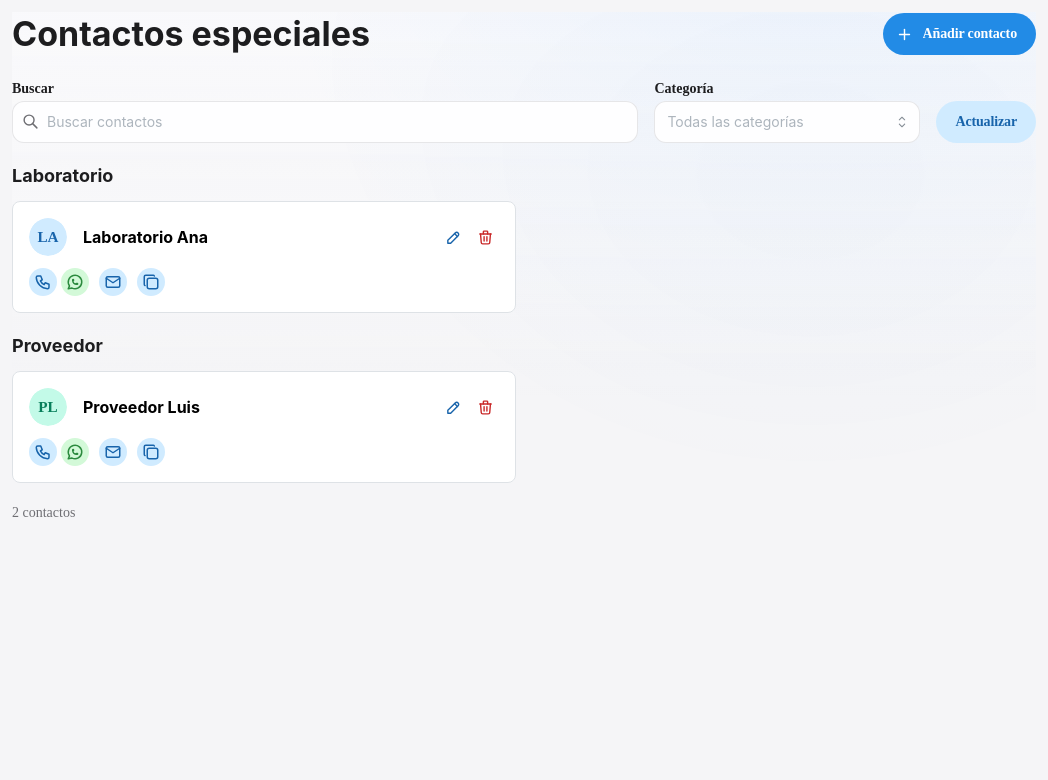
clipboard failure is shown without losing contact cards
Click the button named "Copiar Laboratorio Ana" at (151, 282), box [137,268,165,296]
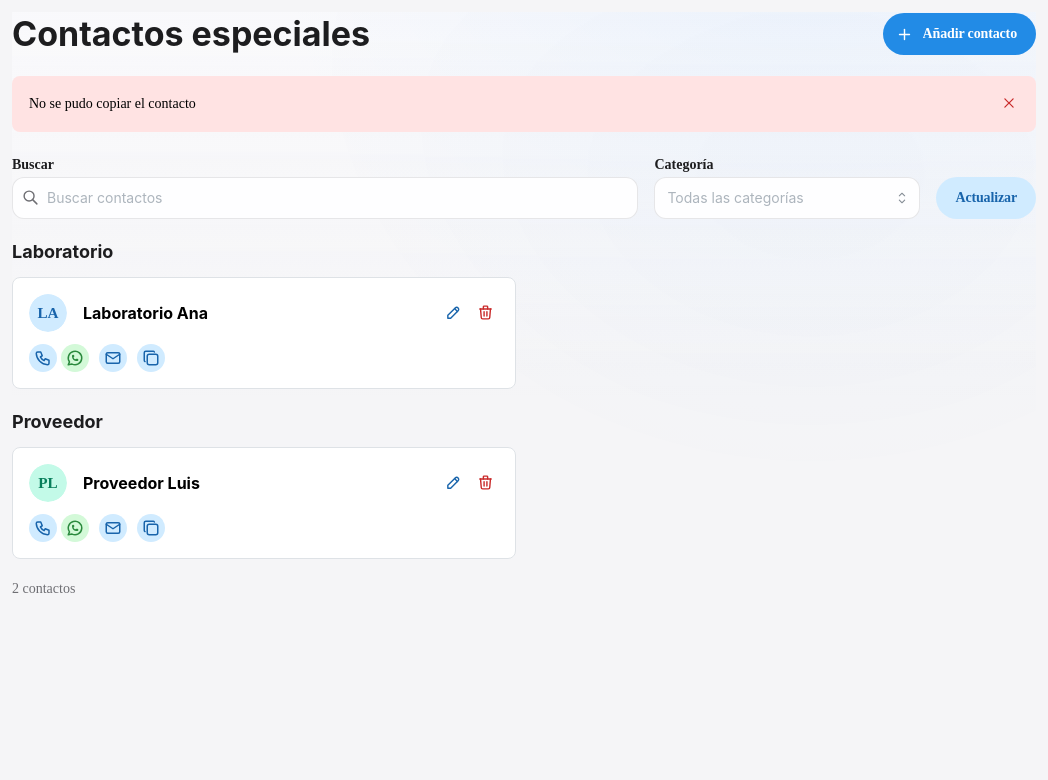
Check: the heading "Laboratorio Ana" is shown, box [83,301,208,325]
Check: the message reads "No se pudo copiar el contacto", box [29,96,196,111]
